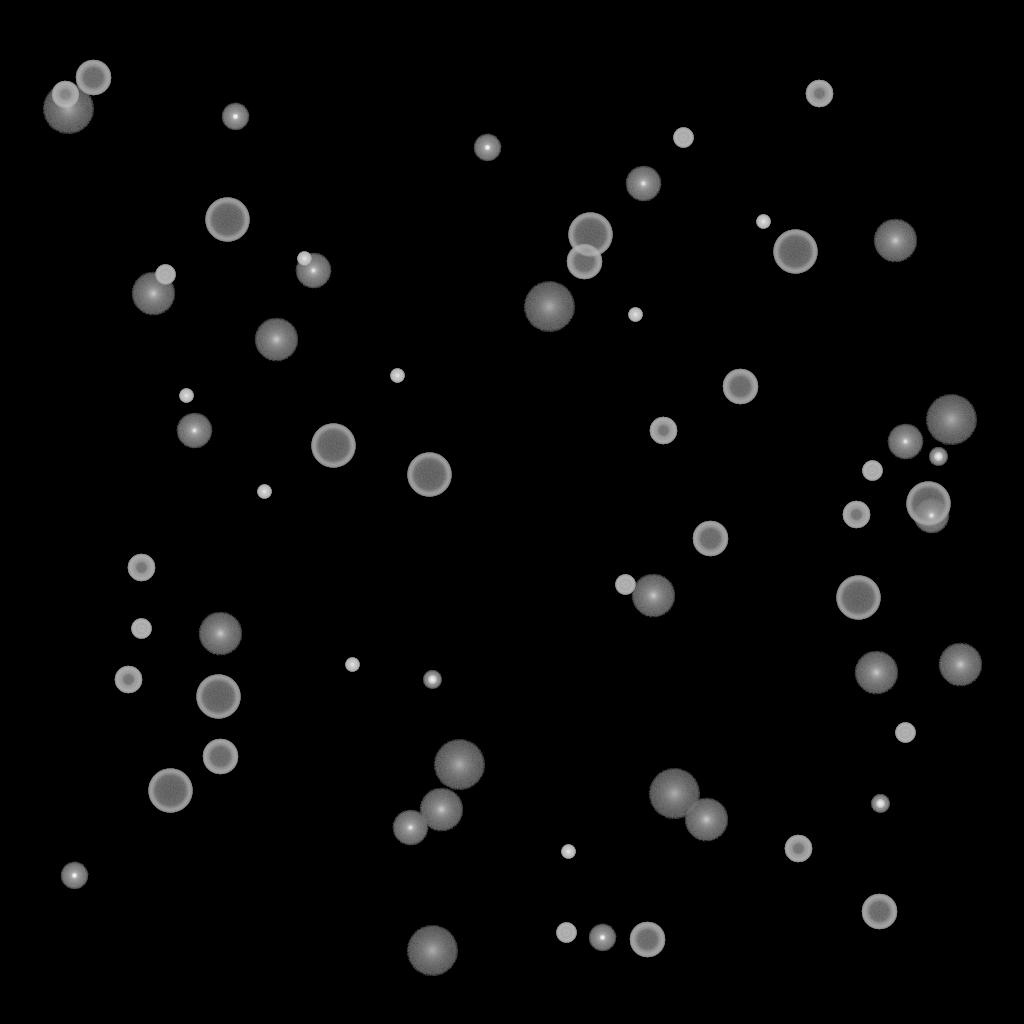depth:-10: (588, 924, 616, 952), (60, 862, 88, 890), (473, 134, 501, 162), (221, 103, 249, 131)
depth:-20: (423, 671, 441, 689), (871, 795, 889, 813), (929, 448, 947, 466)
depth:-30: (257, 485, 271, 499), (179, 389, 193, 403), (345, 658, 359, 672), (561, 845, 575, 859), (628, 308, 642, 322), (756, 215, 770, 229), (390, 369, 404, 383), (297, 252, 311, 266)
depth:-40: (862, 461, 882, 481), (673, 128, 693, 148), (895, 723, 915, 743), (155, 265, 175, 285), (131, 619, 151, 639), (615, 575, 635, 595), (556, 923, 576, 943)
depth:-50: (649, 417, 677, 445), (127, 554, 155, 582), (51, 81, 79, 109), (114, 666, 142, 694), (805, 80, 833, 108), (842, 501, 870, 529), (784, 835, 812, 863)
depth:-60: (861, 894, 897, 930), (722, 369, 758, 405), (75, 60, 111, 96), (566, 244, 602, 280), (692, 521, 728, 557), (202, 739, 238, 775), (629, 922, 665, 958)
depth:-70: (205, 198, 249, 242), (311, 424, 355, 468), (568, 213, 612, 257), (906, 482, 950, 526), (196, 675, 240, 719), (836, 576, 880, 620), (773, 230, 817, 274), (407, 453, 451, 497), (148, 769, 192, 813)
depth:0: (295, 253, 331, 289), (392, 810, 428, 846), (887, 424, 923, 460), (176, 413, 212, 449), (913, 498, 949, 534), (625, 166, 661, 202)
depth:10: (254, 318, 298, 362), (419, 788, 463, 832), (684, 798, 728, 842), (854, 651, 898, 695), (631, 574, 675, 618), (131, 272, 175, 316), (198, 612, 242, 656), (873, 219, 917, 263), (938, 643, 982, 687)
depth:20: (523, 282, 575, 332), (648, 769, 700, 819), (42, 84, 94, 134), (925, 395, 977, 445), (406, 926, 458, 976), (433, 740, 485, 790)
